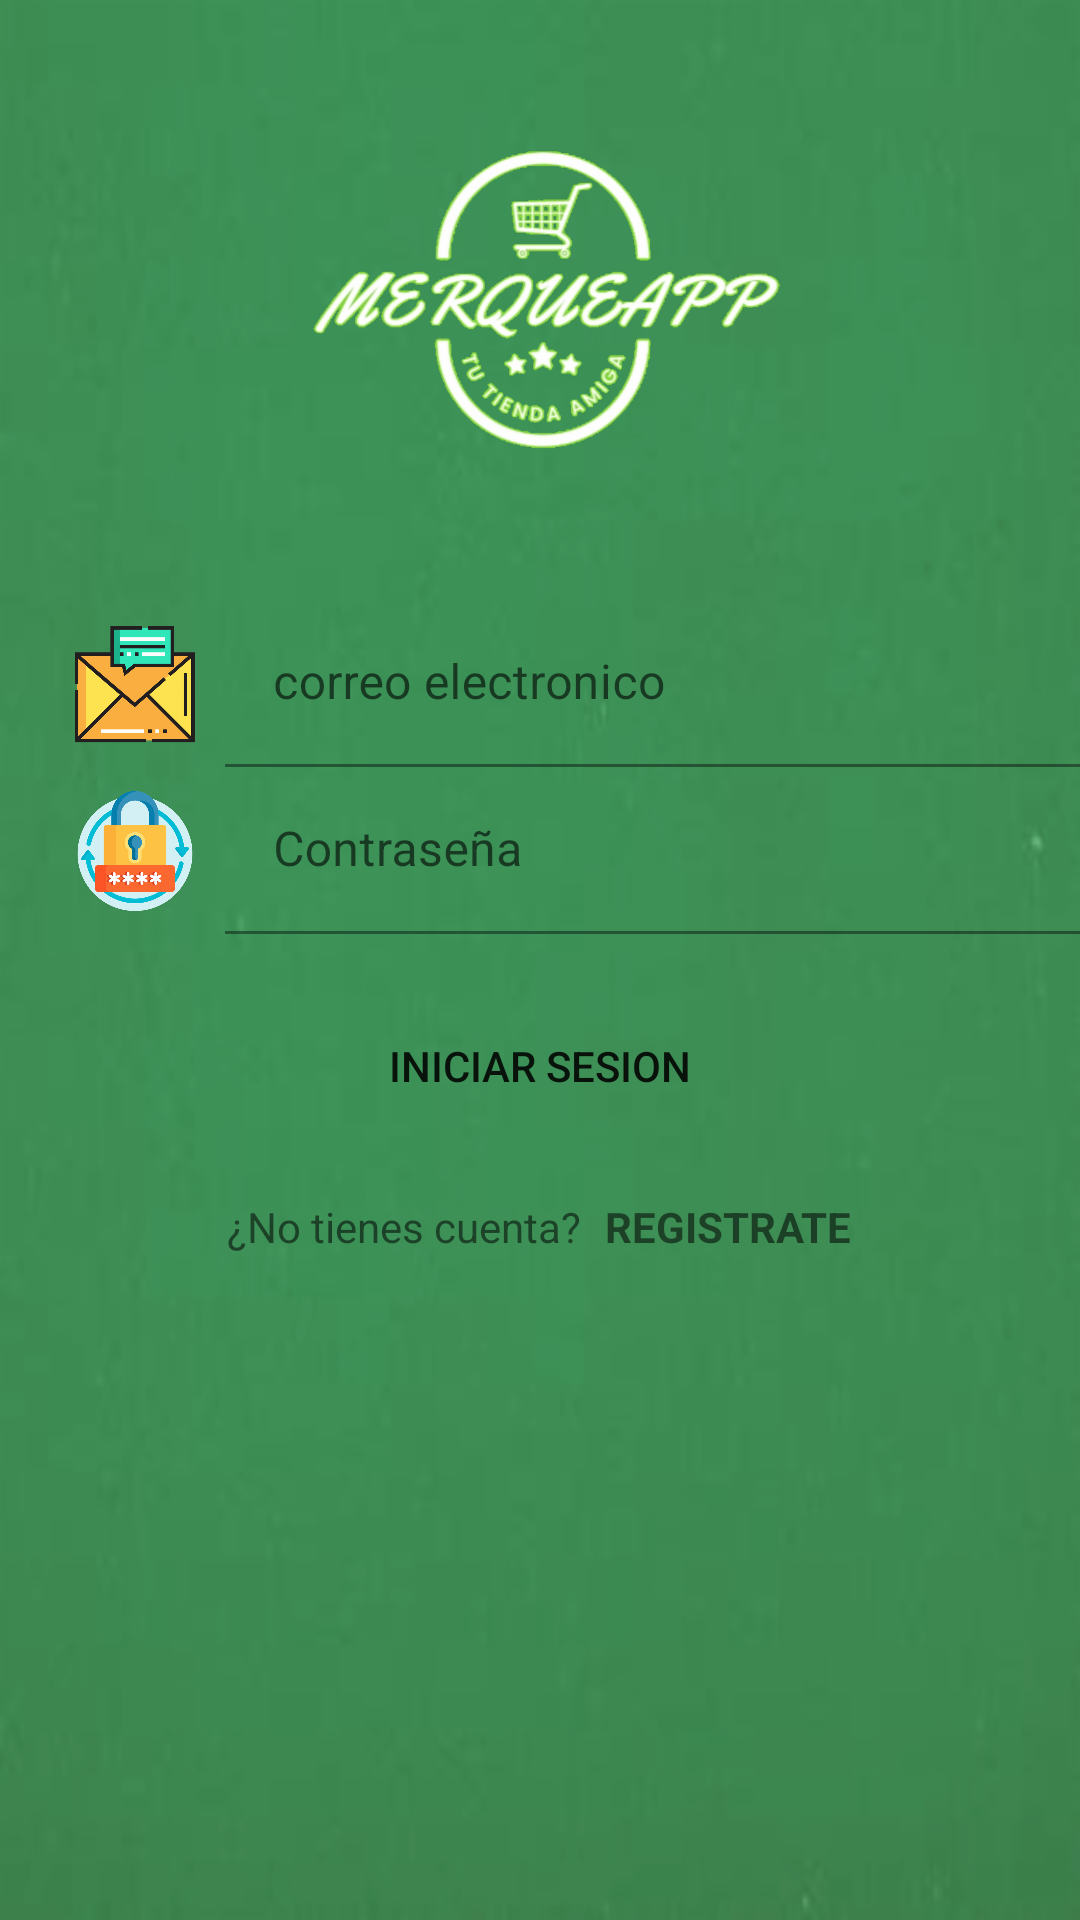

Where to tap for icons on this 1080×1920 app screen, as point (x, y):
contrase: point (135, 851)
email: point (135, 684)
